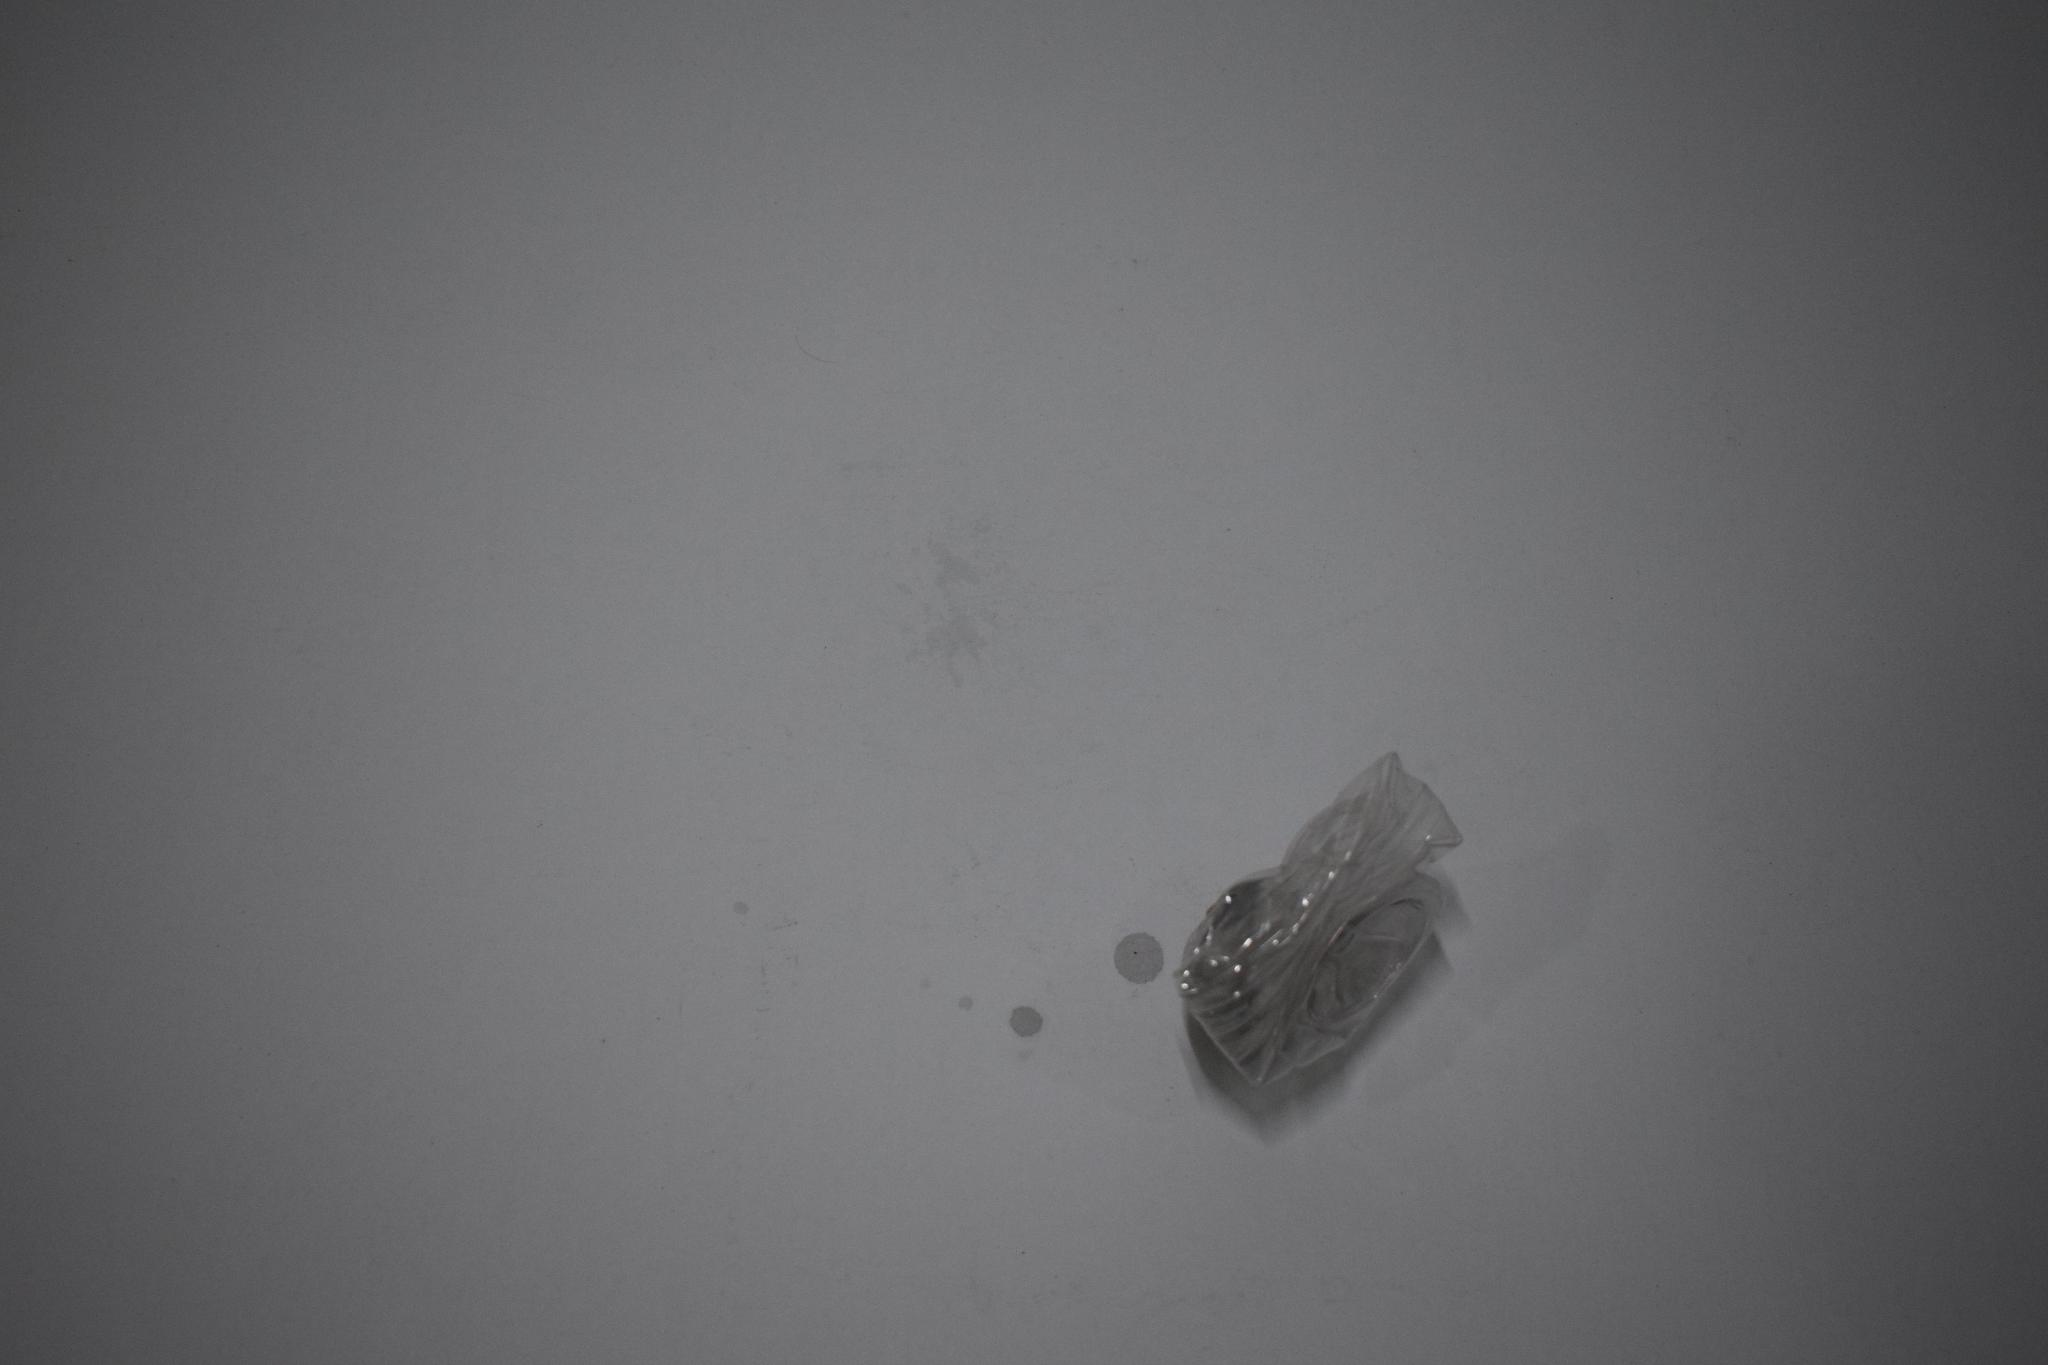bottle: (1163, 740, 1466, 1140)
